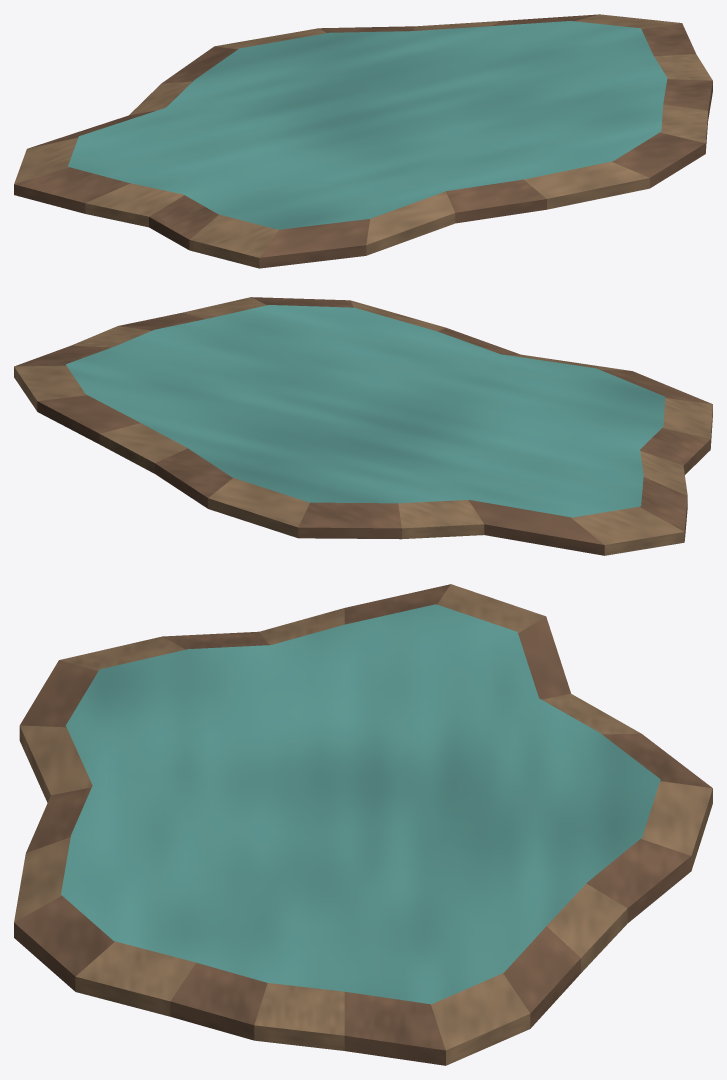
Rendered from puddle_01.fbx.
3 views of the same model, one above another, from view 1: azimuth 30°, elevation 25°; view 2: azimuth 150°, elevation 25°; view 3: azimuth 270°, elevation 25° (orthographic). The views are drawn at different scales.
Visible parts, largest first — view 1: puddle_01; view 2: puddle_01; view 3: puddle_01.
Part boxes in pixels (x1,y1,x2,y2): puddle_01: (14, 14, 712, 268); puddle_01: (14, 297, 712, 555); puddle_01: (14, 584, 712, 1065).
Bounding box in the file's own units: 120 × 3.5 × 76.
2 materials, 2 textured.
